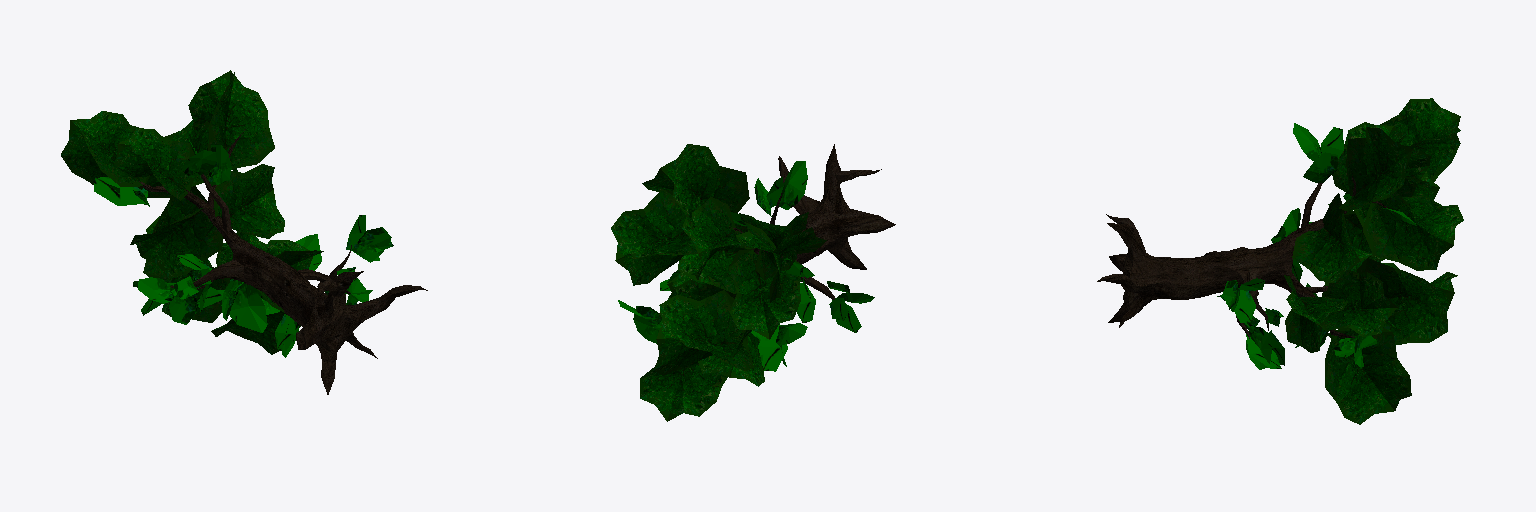
3 renders of one model, left to right at view 1: azimuth 30°, elevation 25°; view 2: azimuth 150°, elevation 25°; view 3: azimuth 270°, elevation 25°, orthographic.
Visible parts, largest first — view 1: A_Twist00OutsideNormalOriginalModel_00__Mt_Treeleaf_00, pPlane10__Mt_Treeleaf_01, polySurface1259__Mt_Tree_Trunk, polySurface1259__Mt_Tree_Stump; view 2: A_Twist00OutsideNormalOriginalModel_00__Mt_Treeleaf_00, pPlane10__Mt_Treeleaf_01, polySurface1259__Mt_Tree_Stump, polySurface1259__Mt_Tree_Trunk; view 3: A_Twist00OutsideNormalOriginalModel_00__Mt_Treeleaf_00, pPlane10__Mt_Treeleaf_01, polySurface1259__Mt_Tree_Trunk, polySurface1259__Mt_Tree_Stump.
Part boxes in pixels (bbox=[...]): A_Twist00OutsideNormalOriginalModel_00__Mt_Treeleaf_00: bbox=[61, 70, 323, 354]; pPlane10__Mt_Treeleaf_01: bbox=[94, 137, 393, 357]; polySurface1259__Mt_Tree_Trunk: bbox=[139, 129, 351, 324]; polySurface1259__Mt_Tree_Stump: bbox=[296, 271, 427, 394]; A_Twist00OutsideNormalOriginalModel_00__Mt_Treeleaf_00: bbox=[611, 144, 826, 421]; pPlane10__Mt_Treeleaf_01: bbox=[618, 161, 874, 371]; polySurface1259__Mt_Tree_Stump: bbox=[778, 144, 895, 269]; polySurface1259__Mt_Tree_Trunk: bbox=[733, 193, 834, 299]; A_Twist00OutsideNormalOriginalModel_00__Mt_Treeleaf_00: bbox=[1284, 98, 1463, 424]; pPlane10__Mt_Treeleaf_01: bbox=[1217, 123, 1416, 373]; polySurface1259__Mt_Tree_Trunk: bbox=[1180, 176, 1395, 338]; polySurface1259__Mt_Tree_Stump: bbox=[1097, 214, 1179, 327].
Size of the model in its own units: 7.28 by 8.75 by 10.3.
7 materials, 4 textured.